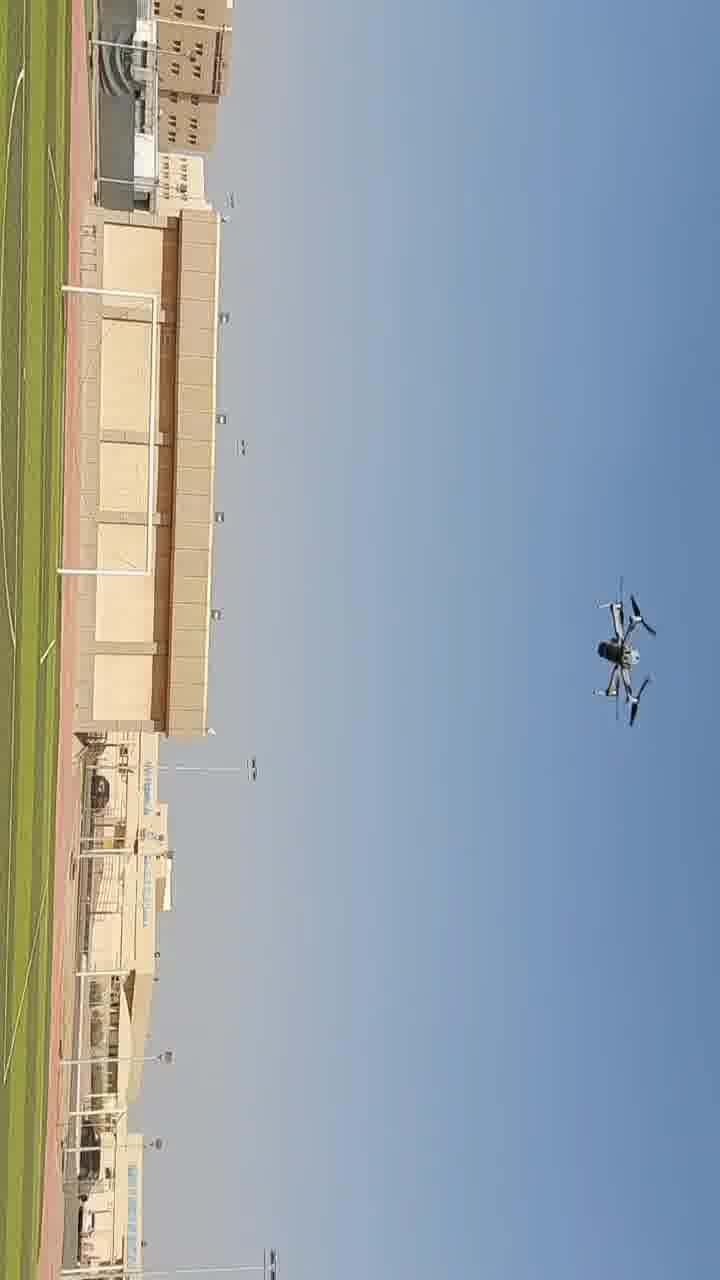drone: (329, 100, 417, 238)
